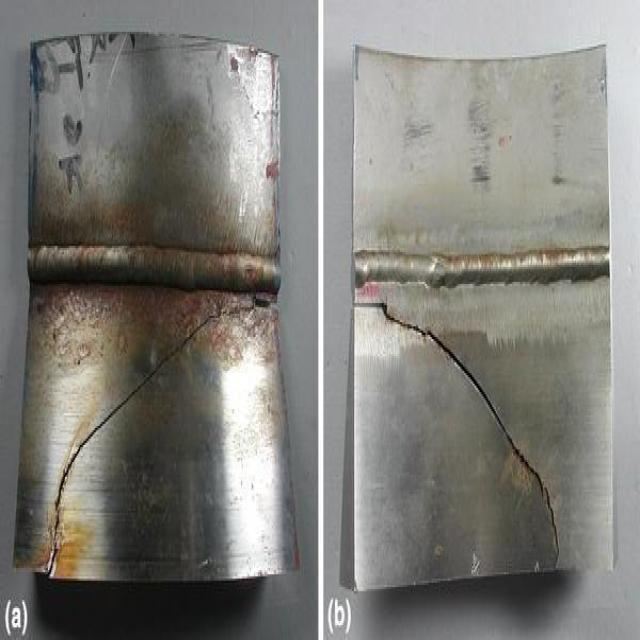Crack: (39, 292, 279, 585), (349, 295, 561, 579)
